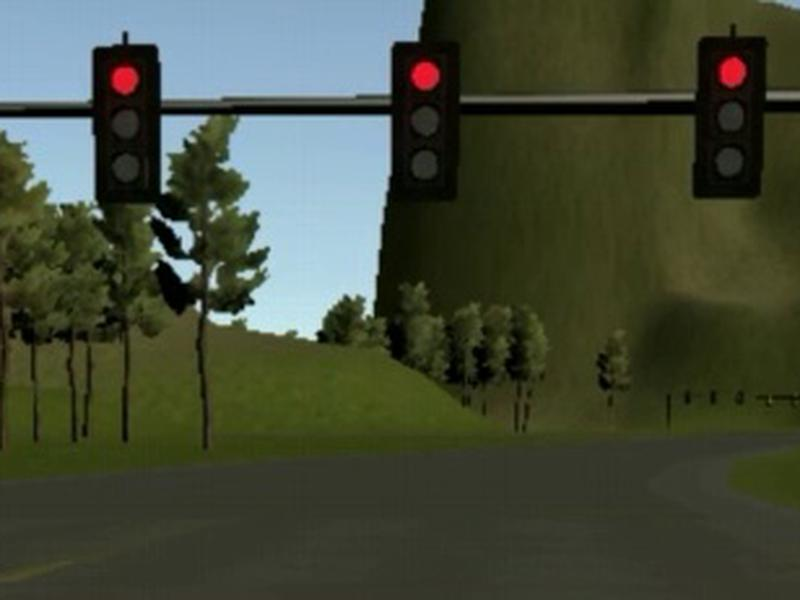Red: (694, 37, 767, 198), (95, 46, 164, 204), (391, 42, 457, 202)
